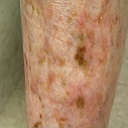Actinic: (64, 31, 100, 74)
